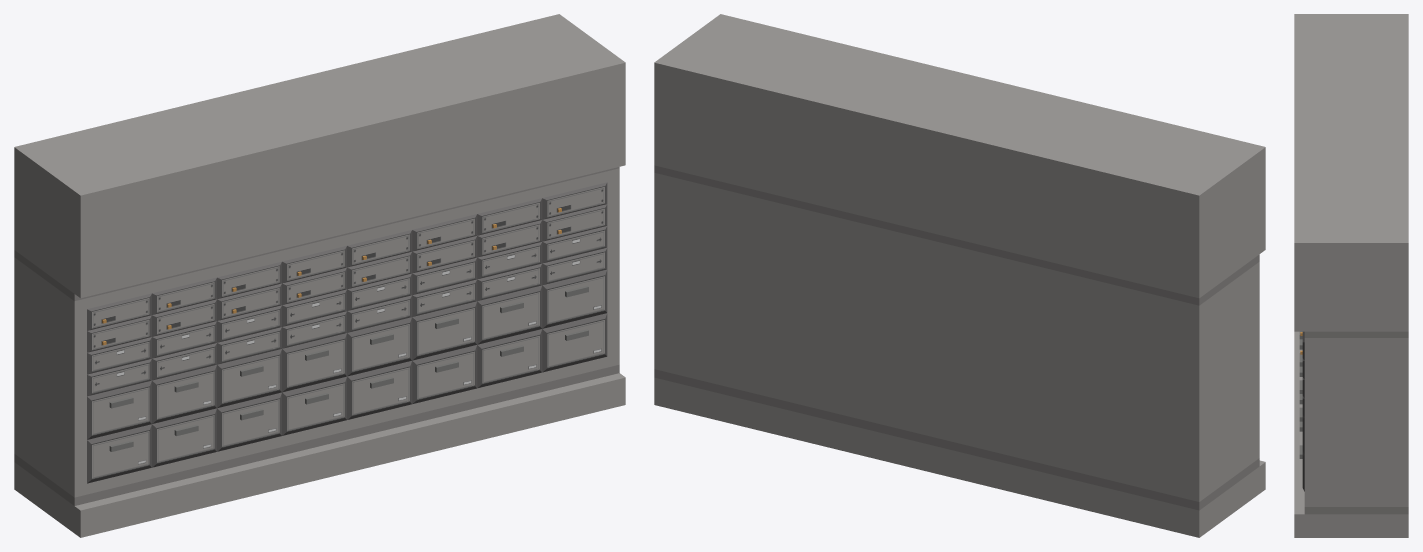
The model's file is Prop_SafeDepositBoxes_01.glb.
3 views of the same model, side by side, from view 1: azimuth 30°, elevation 25°; view 2: azimuth 150°, elevation 25°; view 3: azimuth 270°, elevation 25° (orthographic). The views are drawn at different scales.
Visible parts, largest first — view 1: SM_Prop_SafeDepositBoxes_01; view 2: SM_Prop_SafeDepositBoxes_01; view 3: SM_Prop_SafeDepositBoxes_01.
Part boxes in pixels (x1,y1,x2,y2): SM_Prop_SafeDepositBoxes_01: (14,14,625,537); SM_Prop_SafeDepositBoxes_01: (654,14,1265,537); SM_Prop_SafeDepositBoxes_01: (1294,14,1408,537).
Bounding box in the file's own units: 5 × 3 × 1.05.
1 material, 1 textured.
